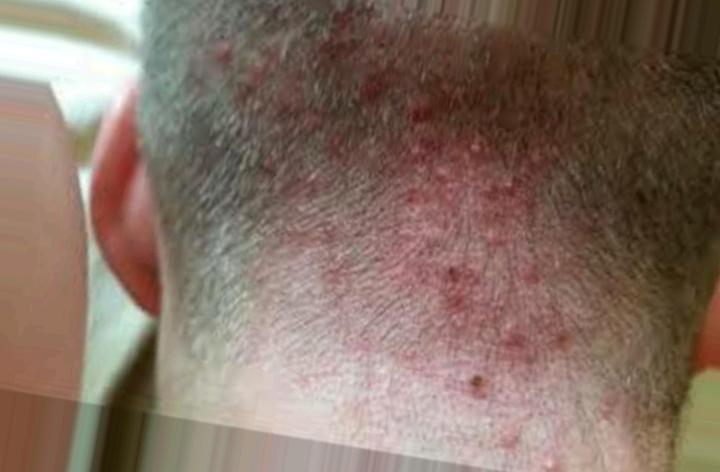Folliculitis: (406, 94, 575, 390)
